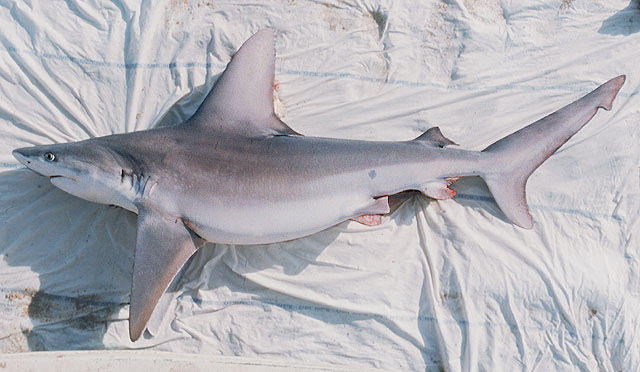fish: (14, 28, 626, 346)
